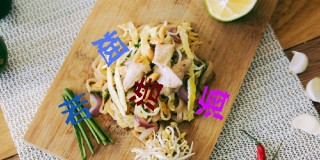浩: (128, 75, 163, 110)
海: (194, 86, 230, 120)
烟: (92, 30, 128, 66)
若: (56, 94, 92, 125)
